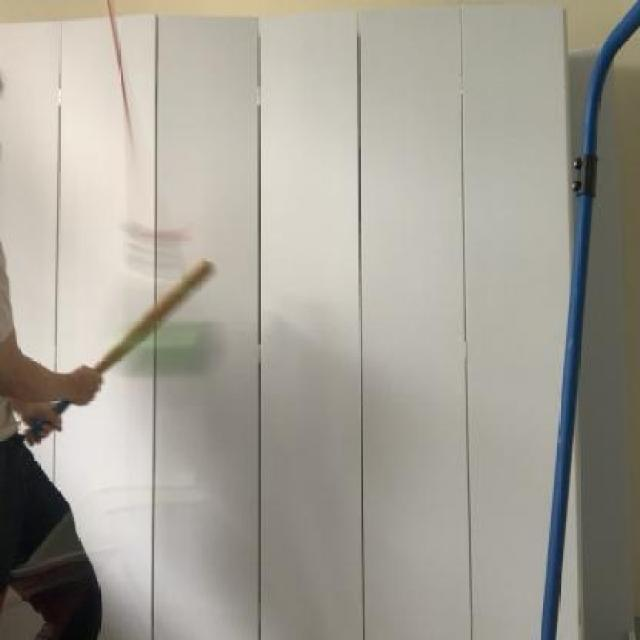baseball: (96, 294, 238, 395)
